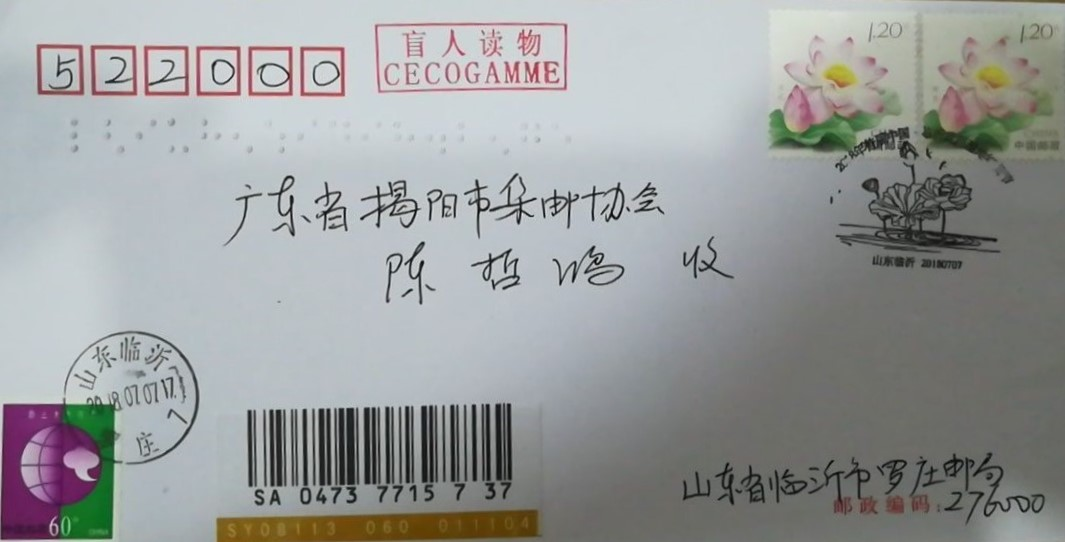Braille: (69, 118, 98, 157), (133, 117, 160, 157), (102, 118, 129, 157), (166, 117, 191, 156), (230, 117, 255, 156), (199, 118, 223, 158), (391, 118, 415, 156), (424, 118, 448, 156), (457, 119, 481, 157), (519, 121, 543, 159), (262, 119, 287, 155), (488, 119, 511, 158), (361, 118, 384, 155), (329, 118, 352, 154), (296, 119, 319, 153), (551, 123, 572, 160)
